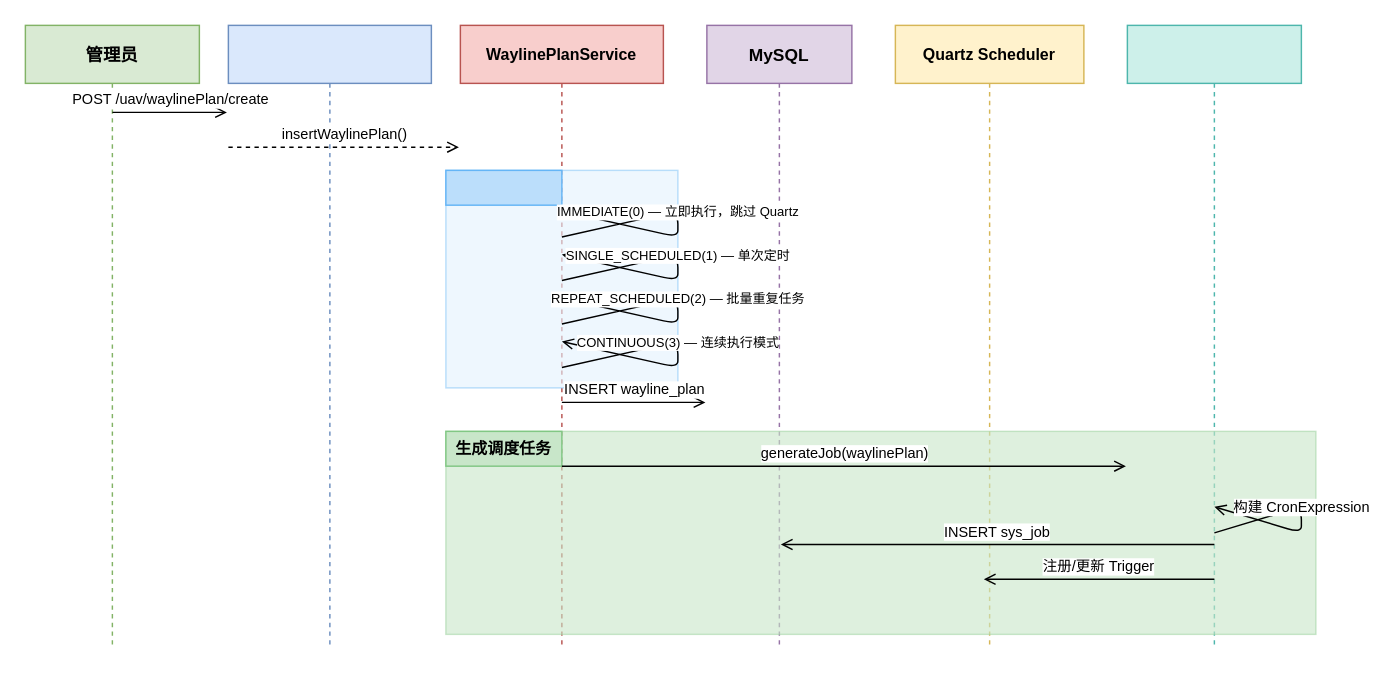
The diagram is 1395 pixels wide and 674 high, and some of its shapes have lost their labels. The box of each missing label's shape, as (x1, y1, x2, y2) in pixels:
SysJobService: (1126, 24, 1301, 649)
WaylinePlanController: (227, 24, 431, 649)
计划类型路由: (444, 169, 562, 205)
